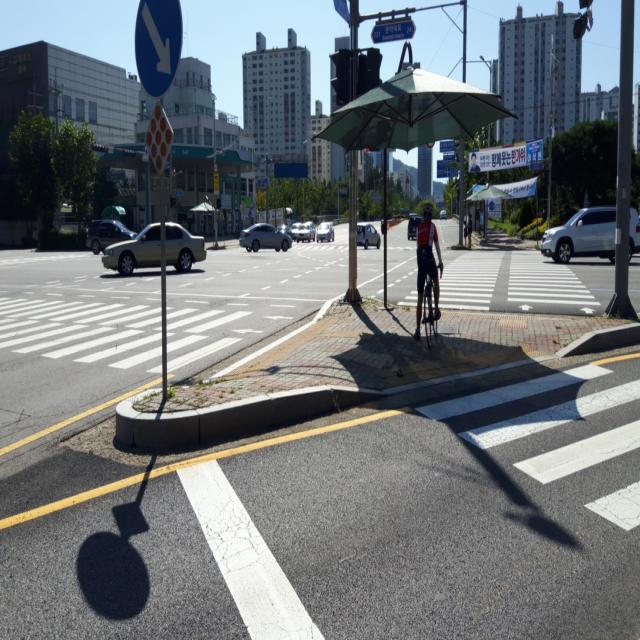횡단보도: (412, 360, 640, 534), (0, 290, 303, 372), (410, 226, 596, 317)
